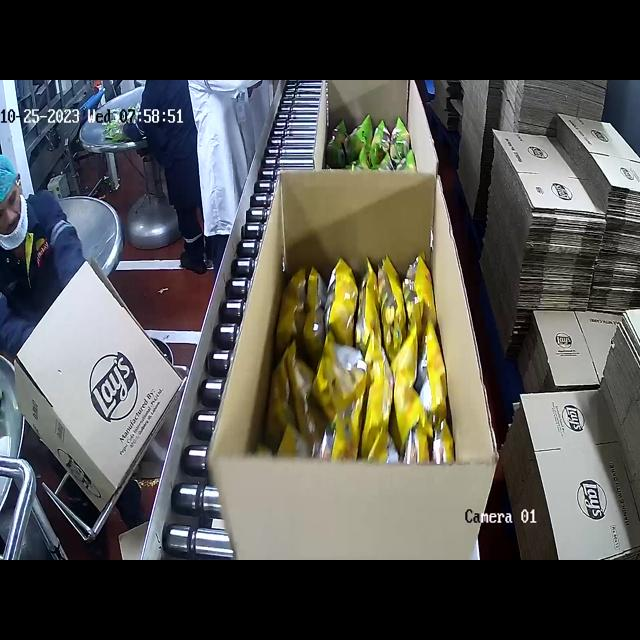salted: (274, 237, 450, 446)
yogurt: (324, 111, 421, 170)
